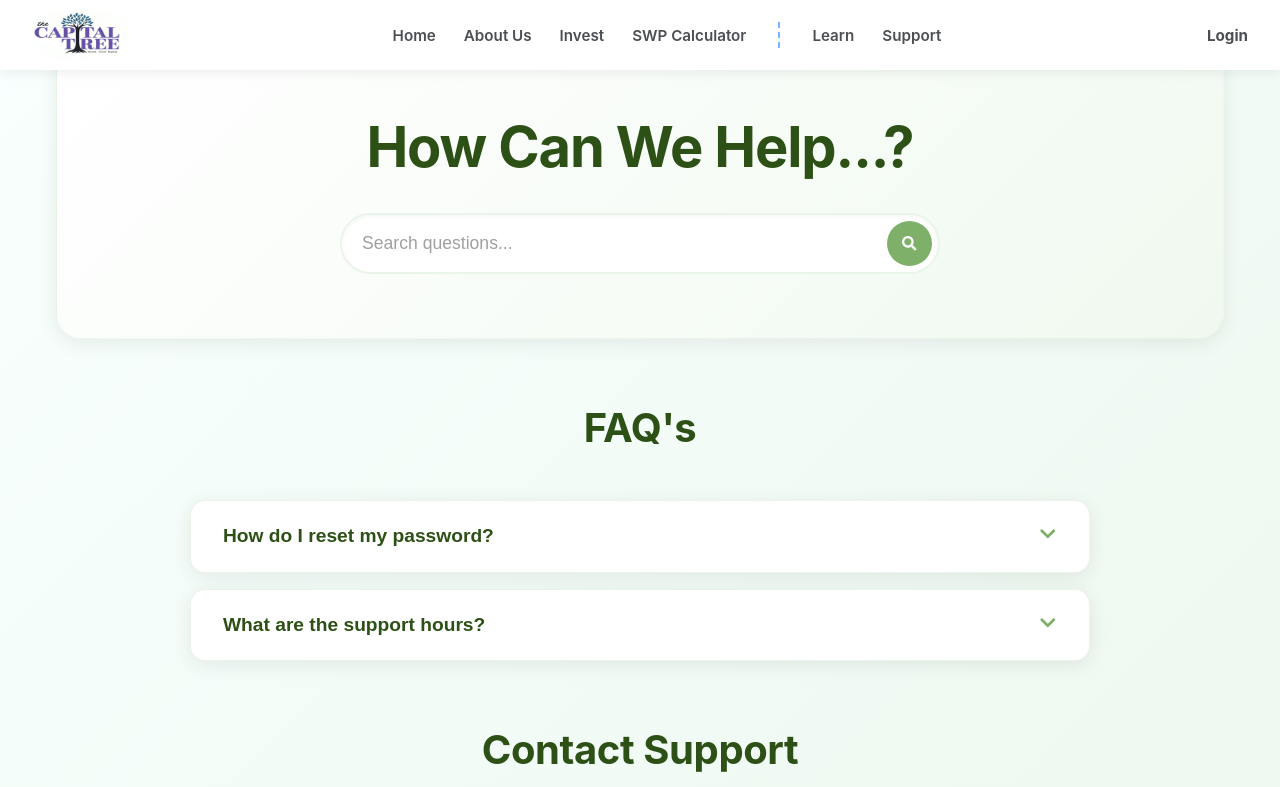
Test: Support Page › filters FAQs based on search term
This screenshot has width=1280, height=787.
Expected: the text "How do I reset my password?" is shown, [223, 525, 494, 547]
// Search for a term that only matches the second FAQ
Step 1. Type "support hours" into the field with placeholder "Search questions..." → (640, 244), box [340, 213, 940, 274]
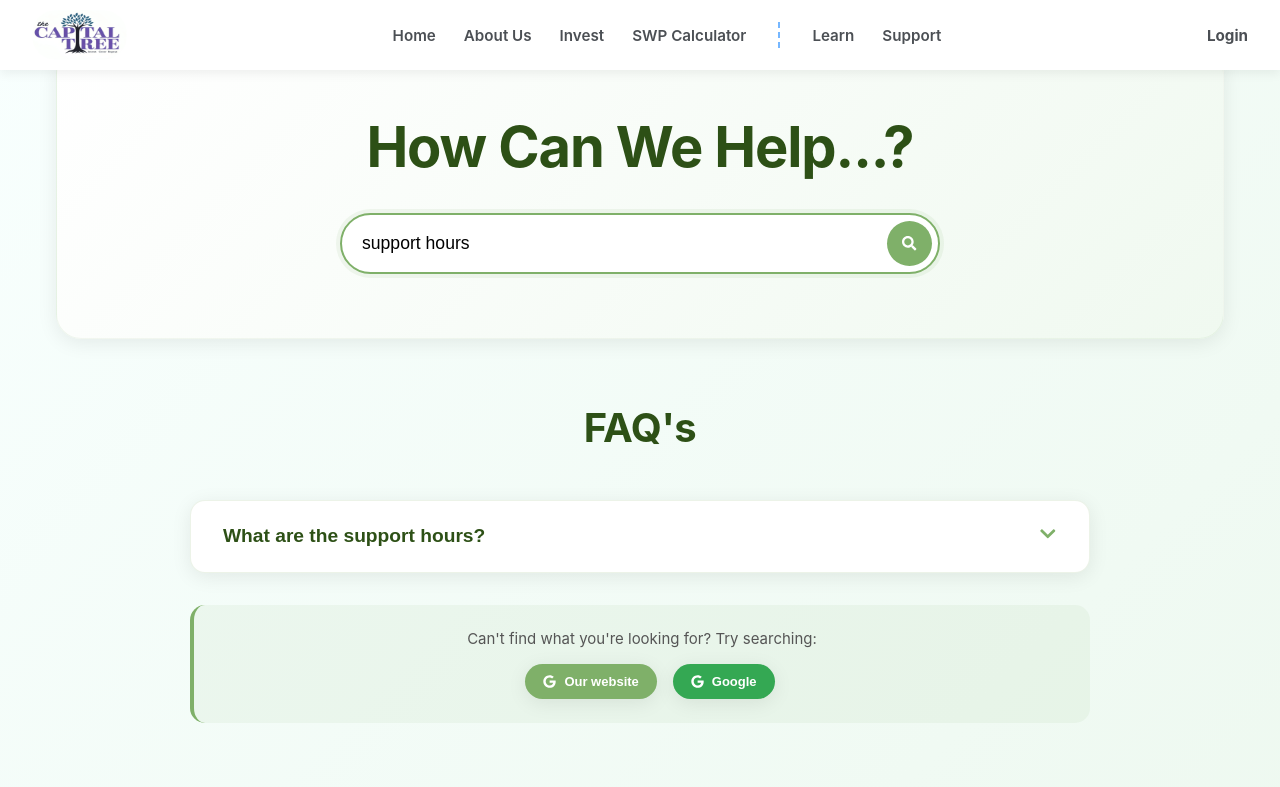
Expected: the text "What are the support hours?" is shown, [223, 525, 485, 547]
Result: the button "How do I reset my password?" is gone
